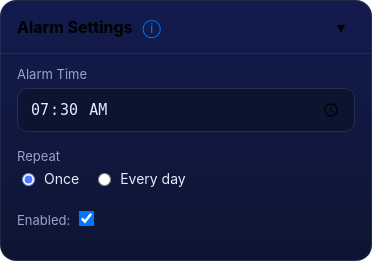
Test: AlarmCard › Interactions › switches the repeat radio selection when another option is selected
The image size is (389, 278).
expect the radio button labelled "Once" is checked: met, box x1=22 y1=173 x2=35 y2=186
What coordinates should you click on to do the following:
click the radio button labelled "Every day"
I would click on:
 (105, 180)
Its box is x1=98 y1=173 x2=111 y2=186.
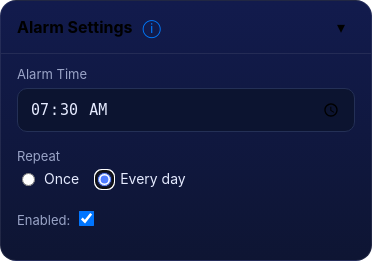
expect the radio button labelled "Every day" is checked: met, box x1=98 y1=173 x2=111 y2=186
expect the radio button labelled "Once" is not checked: met, box x1=22 y1=173 x2=35 y2=186
